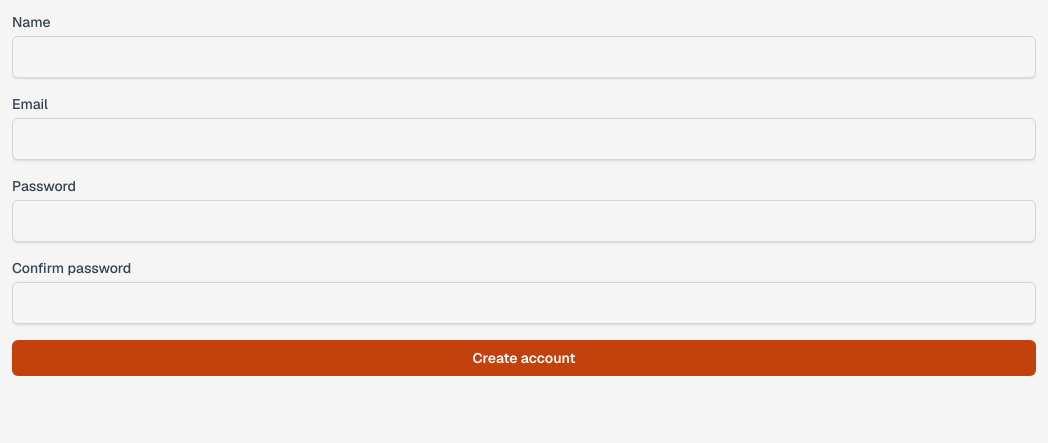
Test case: RegisterForm › validates password rules on the client
In the field labelled "Name": (524, 57) [12,36,1036,78], type "Jane"
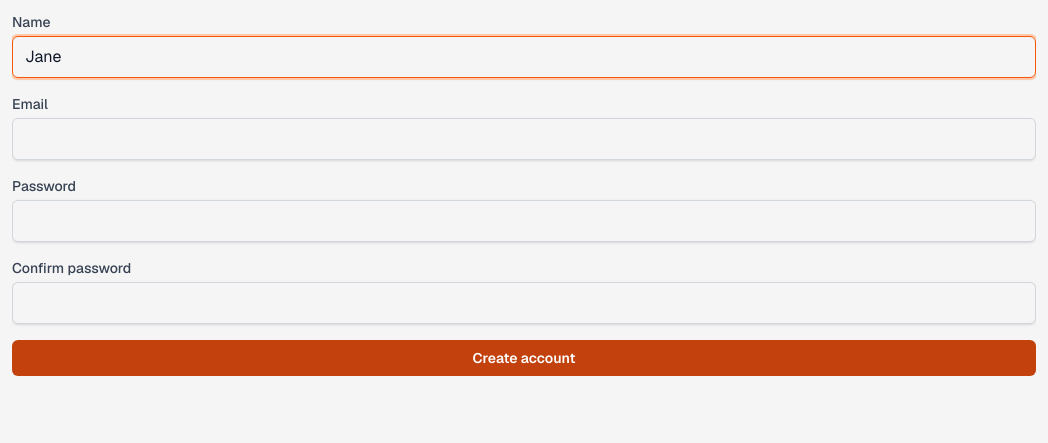
In the field labelled "Email": (524, 139) [12,118,1036,160], type "jane@example.com"
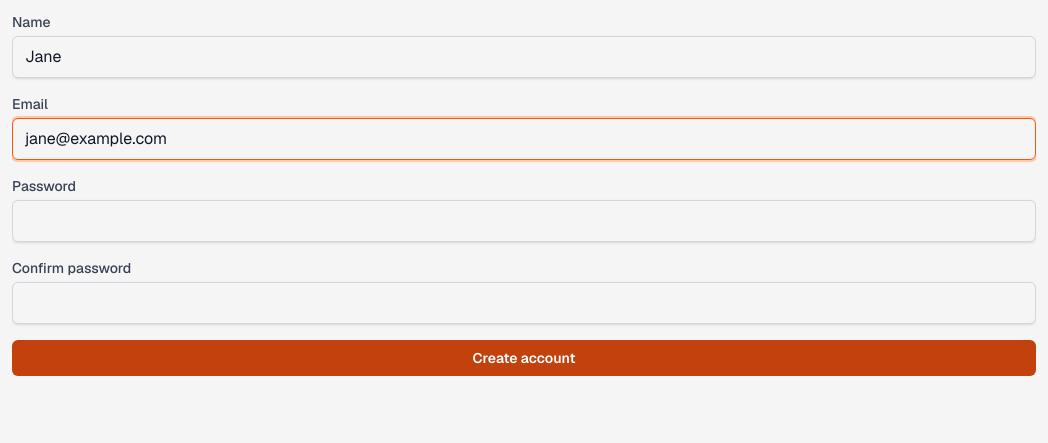
In the password field labelled "Password": (524, 221) [12,200,1036,242], type "password"
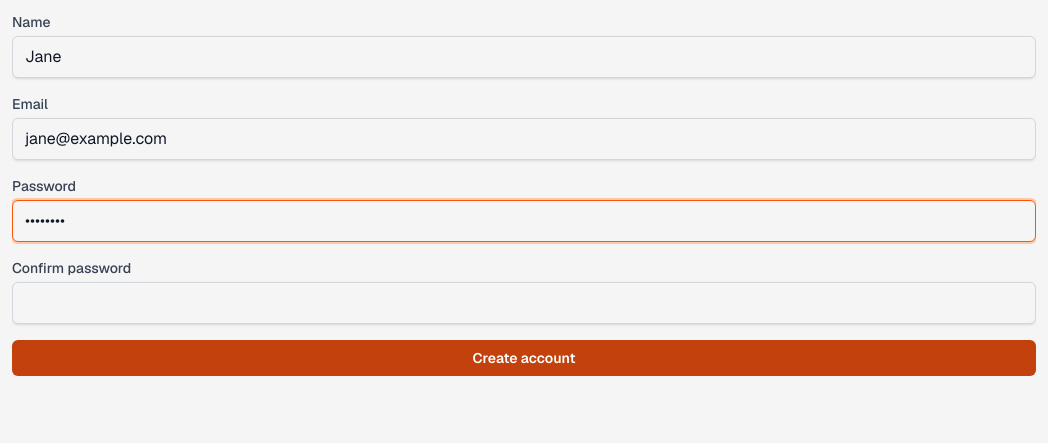
In the password field labelled "Confirm password": (524, 303) [12,282,1036,324], type "different"
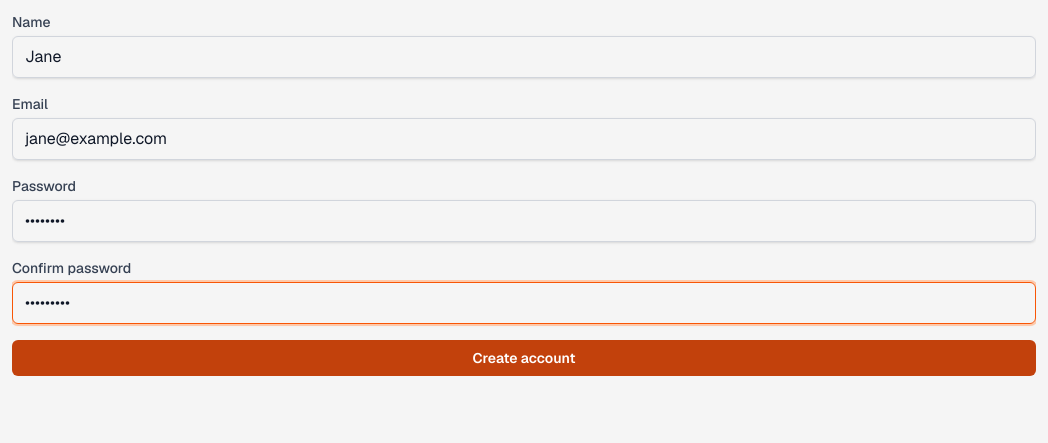
Click the button "Create account": click(524, 358) [12,340,1036,376]
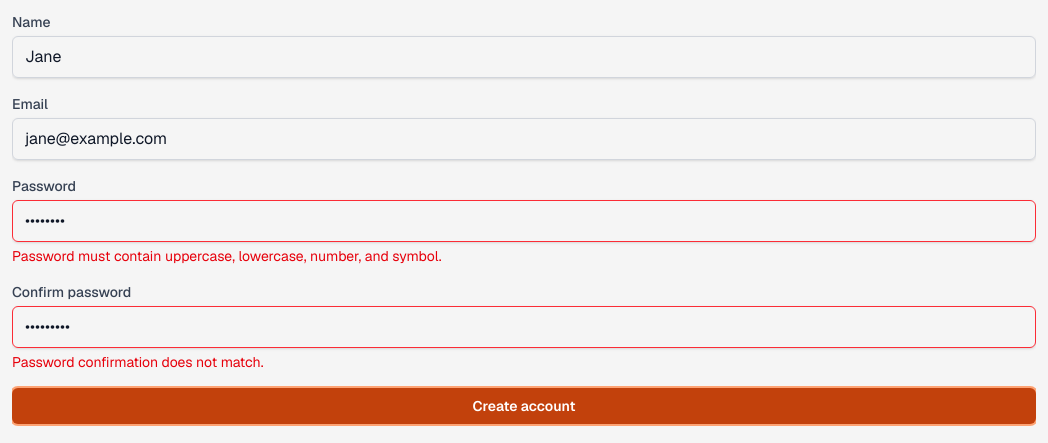
Expected: the text "uppercase, lowercase, number, and symbol" is shown, [12,247,442,265]
Expected: the text "Password confirmation does not match." is shown, [12,353,264,371]
